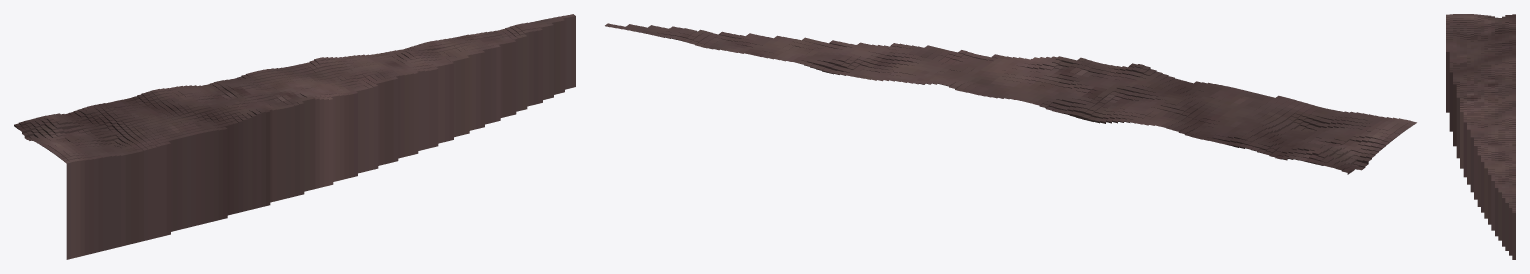
Rendered from chunk-43.glb.
3 renders of one model, left to right at view 1: azimuth 30°, elevation 25°; view 2: azimuth 150°, elevation 25°; view 3: azimuth 270°, elevation 25°, orthographic. The views are drawn at different scales.
Visible parts, largest first — view 1: Mesh_0.059; view 2: Mesh_0.059; view 3: Mesh_0.059.
Boxes of the visible parts, left/top/right/bottom form: Mesh_0.059: left=14, top=14, right=575, bottom=259; Mesh_0.059: left=605, top=23, right=1416, bottom=174; Mesh_0.059: left=1446, top=14, right=1515, bottom=259.
Size of the model in its own units: 30750 by 5286 by 5000.
